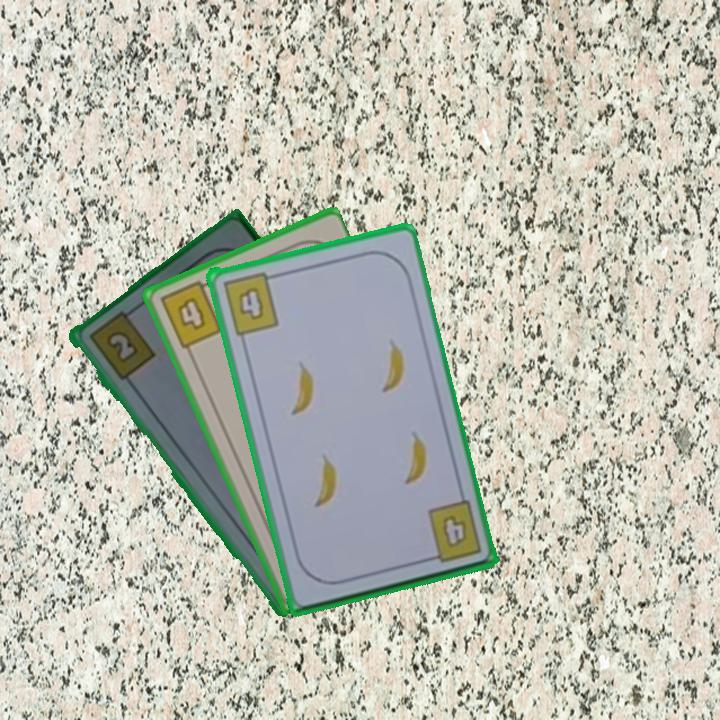2b: (84, 306, 158, 383)
4b: (156, 276, 225, 352), (219, 268, 282, 338), (438, 510, 469, 551)
